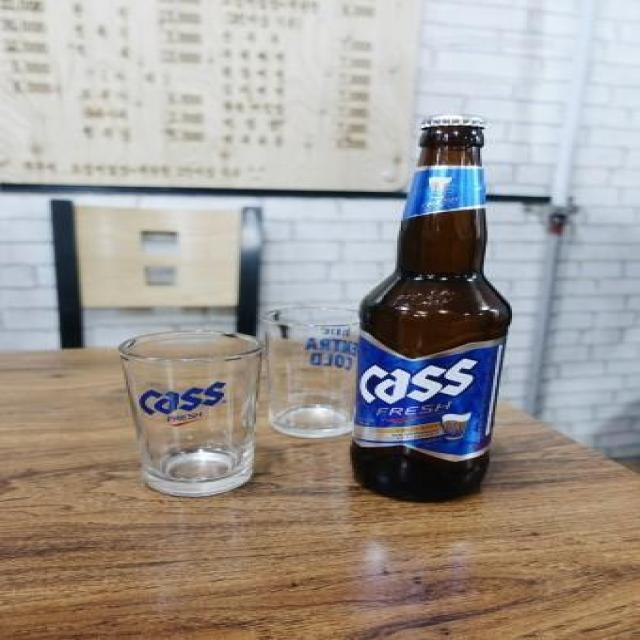beer-bottle: (351, 94, 504, 515)
